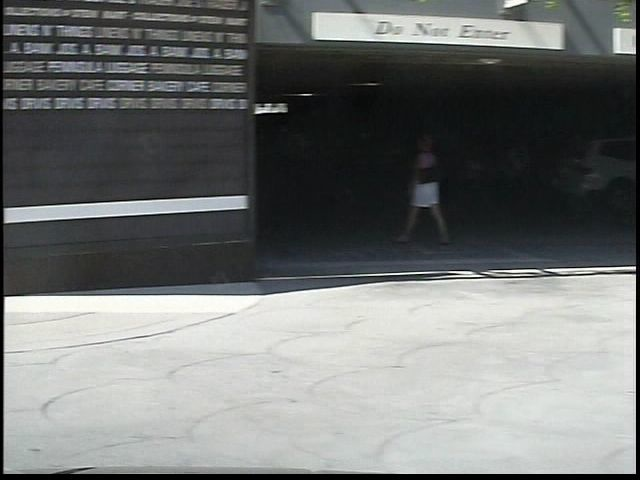person: (378, 131, 436, 250)
